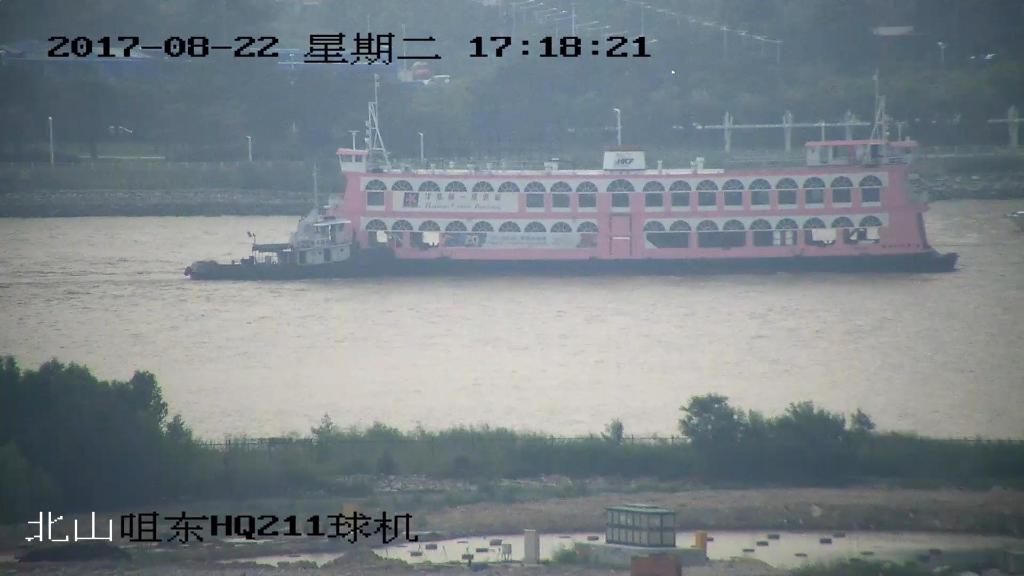PassengerShip: (310, 98, 968, 286)
